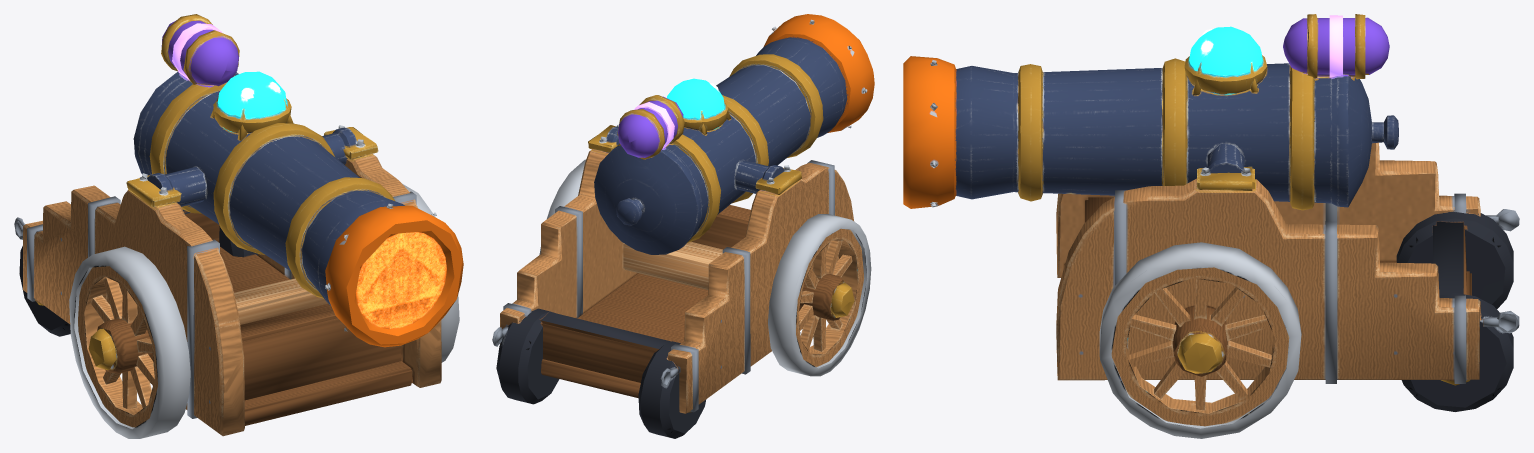
File: Wrecker_v2_LOD1.fbx
The picture shows the model from 3 angles, left to right: view 1: azimuth 30°, elevation 25°; view 2: azimuth 150°, elevation 25°; view 3: azimuth 270°, elevation 25°; orthographic projection. The views are drawn at different scales.
Visible parts, largest first — view 1: Carriage, Barrel, Wheel_FR, Slot_Booster, Slot_Module, Slot_Core, Wheel_FL, Wheel_RR; view 2: Carriage, Barrel, Wheel_FR, Slot_Booster, Wheel_RL, Wheel_RR, Slot_Module, Slot_Core, Wheel_FL; view 3: Carriage, Barrel, Wheel_FL, Slot_Booster, Slot_Module, Wheel_RR, Wheel_RL, Slot_Core.
Boxes of the visible parts, x1=… form: Carriage: x1=14, y1=125, x2=441, y2=436; Barrel: x1=133, y1=71, x2=404, y2=306; Wheel_FR: x1=69, y1=246, x2=190, y2=438; Slot_Booster: x1=325, y1=203, x2=463, y2=347; Slot_Module: x1=161, y1=14, x2=239, y2=86; Slot_Core: x1=211, y1=71, x2=293, y2=140; Wheel_FL: x1=402, y1=183, x2=459, y2=362; Wheel_RR: x1=19, y1=246, x2=70, y2=336; Carriage: x1=492, y1=124, x2=854, y2=413; Barrel: x1=594, y1=37, x2=847, y2=254; Wheel_FR: x1=768, y1=214, x2=871, y2=376; Slot_Booster: x1=763, y1=14, x2=874, y2=132; Wheel_RL: x1=496, y1=308, x2=559, y2=404; Wheel_RR: x1=638, y1=341, x2=706, y2=438; Slot_Module: x1=617, y1=95, x2=684, y2=159; Slot_Core: x1=667, y1=78, x2=730, y2=135; Wheel_FL: x1=539, y1=159, x2=586, y2=254; Carriage: x1=1056, y1=142, x2=1519, y2=383; Barrel: x1=955, y1=58, x2=1398, y2=210; Wheel_FL: x1=1099, y1=242, x2=1301, y2=438; Slot_Booster: x1=903, y1=56, x2=956, y2=208; Slot_Module: x1=1283, y1=14, x2=1389, y2=79; Wheel_RR: x1=1396, y1=211, x2=1513, y2=308; Wheel_RL: x1=1401, y1=293, x2=1513, y2=411; Slot_Core: x1=1184, y1=26, x2=1267, y2=95.
Size of what is drawn, in the model's own units: 2.44 by 2.25 by 3.63.
2 materials, 2 textured.
